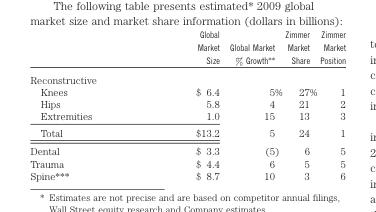table: (29, 28, 344, 180)
table column: (29, 28, 143, 180), (143, 28, 223, 180), (223, 28, 283, 180), (283, 28, 318, 180), (318, 28, 344, 180)
table column header: (29, 28, 344, 69)
table projected row header: (29, 69, 344, 85)
table row: (29, 28, 344, 69), (29, 123, 344, 141), (29, 69, 344, 85), (29, 141, 344, 156), (29, 109, 344, 123), (29, 156, 344, 169), (29, 85, 344, 97), (29, 97, 344, 109), (29, 169, 344, 180)
